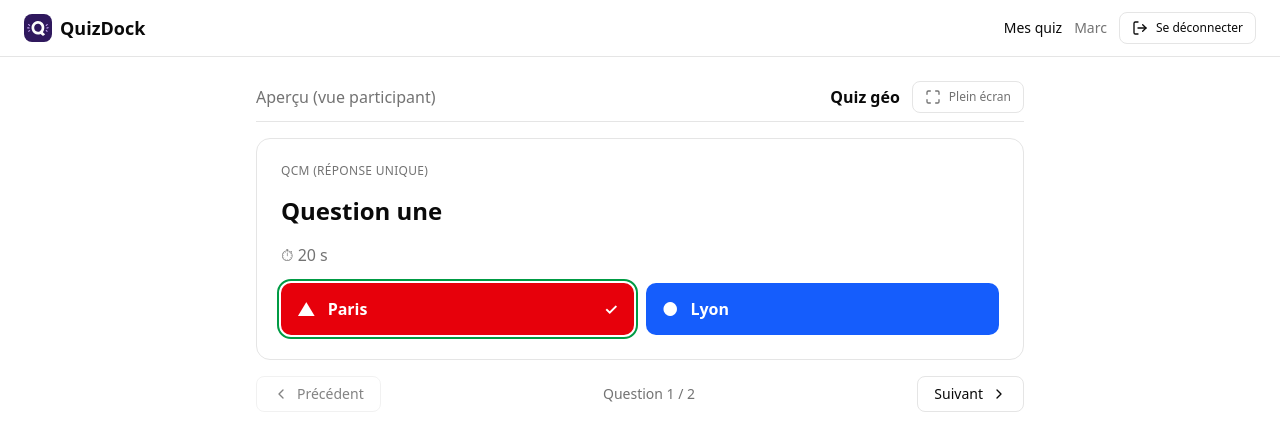
Scenario: PreviewPage › navigue d’une question à l’autre
Expected: the heading "Question une" is shown, [281,194,442,227]
Click the button "Suivant" at (971, 394), box [917,376,1024,412]
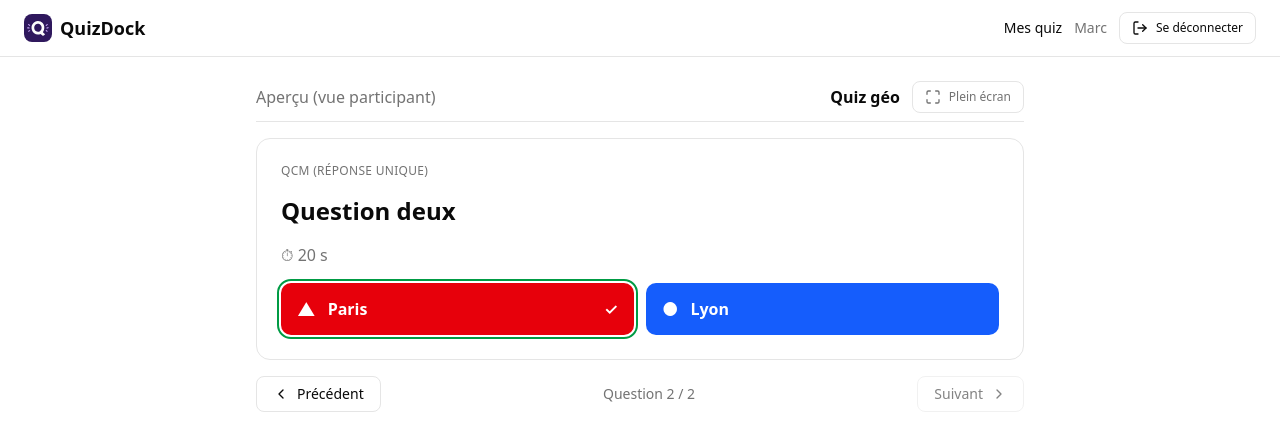
Expected: the heading "Question deux" is shown, [281,194,456,227]
